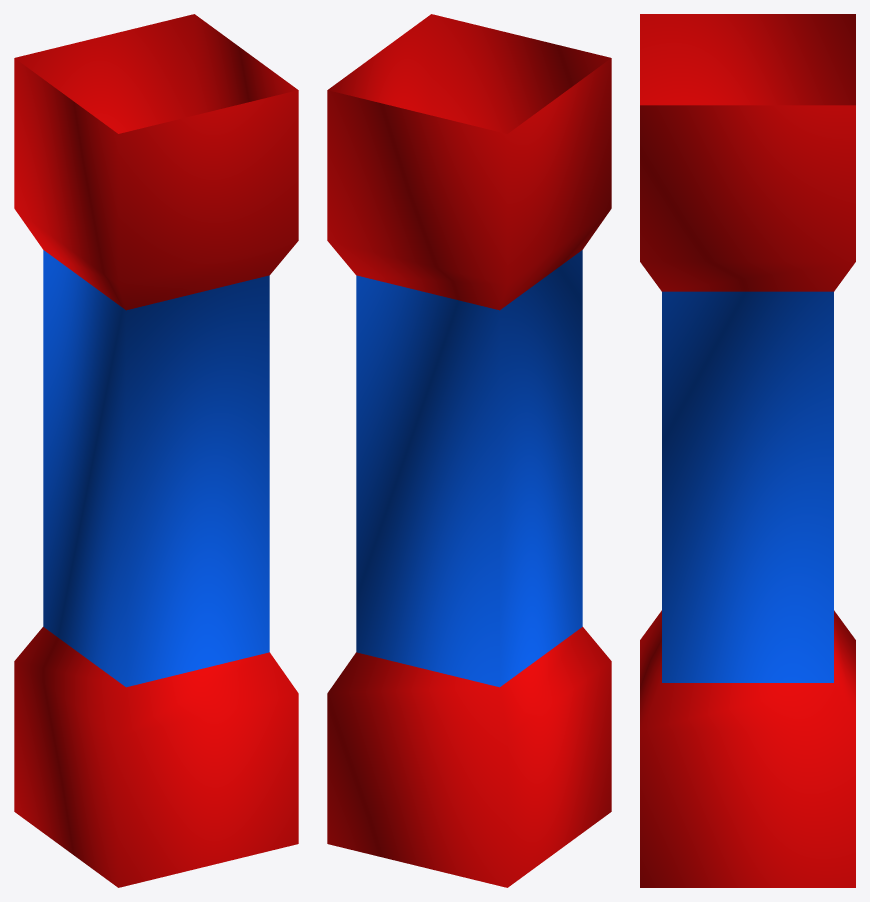
File: Columna_A.FBX
The picture shows the model from 3 angles, left to right: view 1: azimuth 30°, elevation 25°; view 2: azimuth 150°, elevation 25°; view 3: azimuth 270°, elevation 25°; orthographic projection. The views are drawn at different scales.
Visible parts, largest first — view 1: Geo_Columna_A; view 2: Geo_Columna_A; view 3: Geo_Columna_A.
Part boxes in pixels (x1,y1,x2,y2): Geo_Columna_A: [14, 14, 298, 887]; Geo_Columna_A: [327, 14, 611, 887]; Geo_Columna_A: [640, 14, 855, 887].
Bounding box in the file's own units: 100 × 400 × 100.
